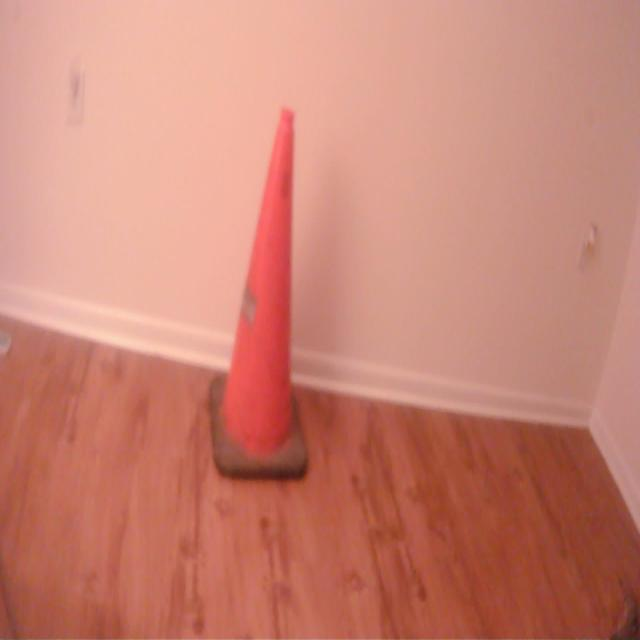traffic cone: (207, 102, 315, 493)
